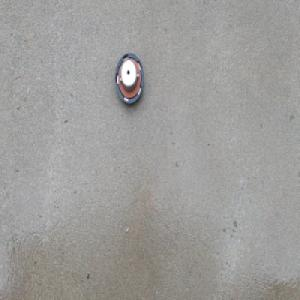FuelCap: (114, 51, 144, 105)
